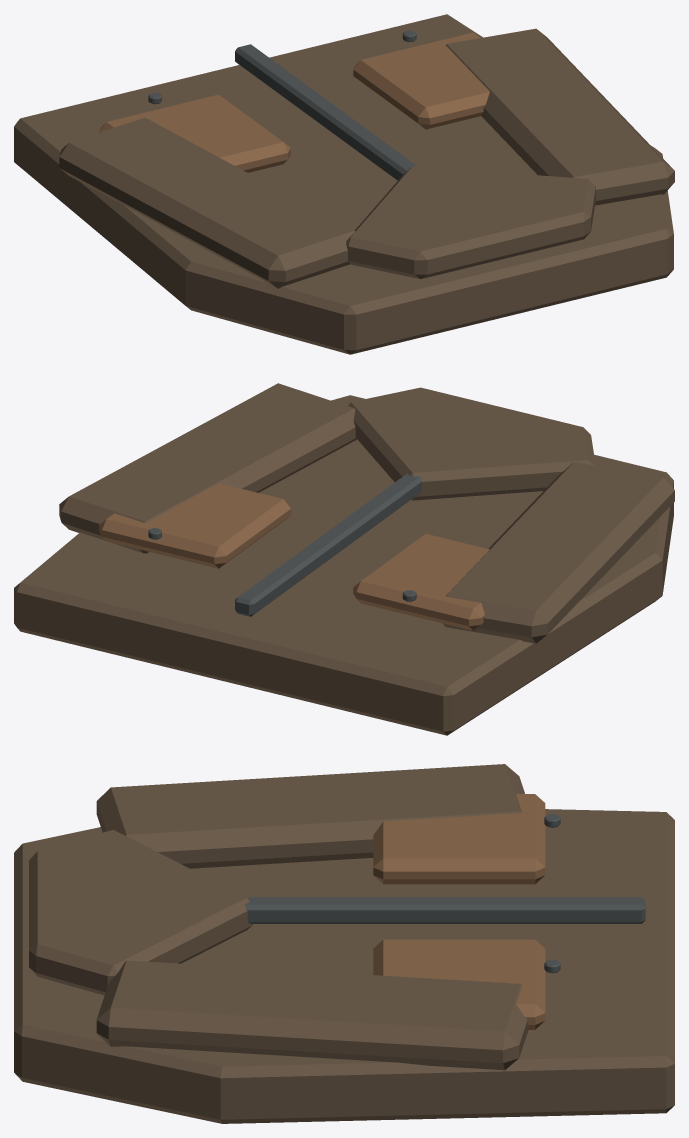
The model's file is item_jacket.glb.
3 renders of one model, top to bottom at view 1: azimuth 30°, elevation 25°; view 2: azimuth 150°, elevation 25°; view 3: azimuth 270°, elevation 25°, orthographic. The views are drawn at different scales.
Visible parts, largest first — view 1: item_jacket; view 2: item_jacket; view 3: item_jacket.
Boxes of the visible parts, box(x1,y1,x2,y2) form: item_jacket: box(14, 14, 674, 354); item_jacket: box(14, 383, 674, 735); item_jacket: box(14, 764, 674, 1123).
Size of the model in its own units: 0.4607 by 0.078 by 0.4608.
